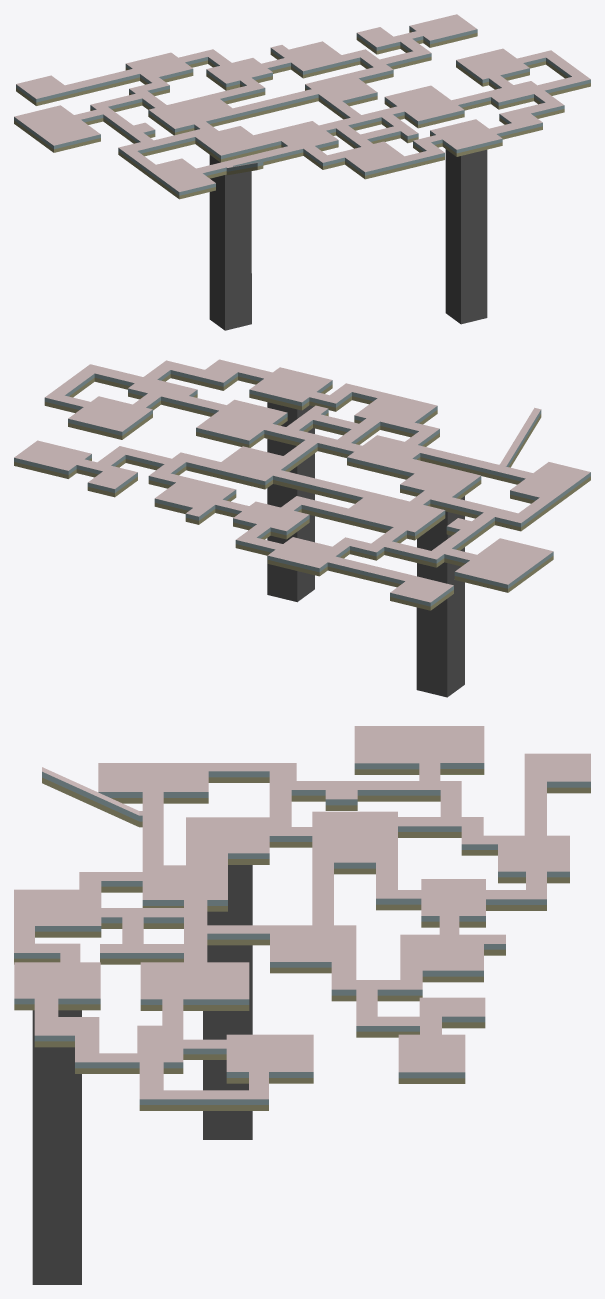
The model's file is Level.fbx.
3 renders of one model, top to bottom at view 1: azimuth 30°, elevation 25°; view 2: azimuth 150°, elevation 25°; view 3: azimuth 270°, elevation 25°, orthographic. The views are drawn at different scales.
Parts seen in each view (by area): view 1: Ceiling, Walls, Holes; view 2: Ceiling, Walls, Holes; view 3: Ceiling, Walls, Holes.
Part boxes in pixels (bbox=[...]): Ceiling: bbox=[14, 14, 590, 191]; Walls: bbox=[14, 26, 590, 199]; Holes: bbox=[209, 149, 487, 330]; Ceiling: bbox=[14, 359, 590, 602]; Walls: bbox=[14, 370, 590, 610]; Holes: bbox=[267, 402, 464, 697]; Ceiling: bbox=[14, 726, 590, 1099]; Walls: bbox=[14, 763, 590, 1110]; Holes: bbox=[32, 865, 252, 1284].
Size of the model in its own units: 228 by 96.43 by 149.
